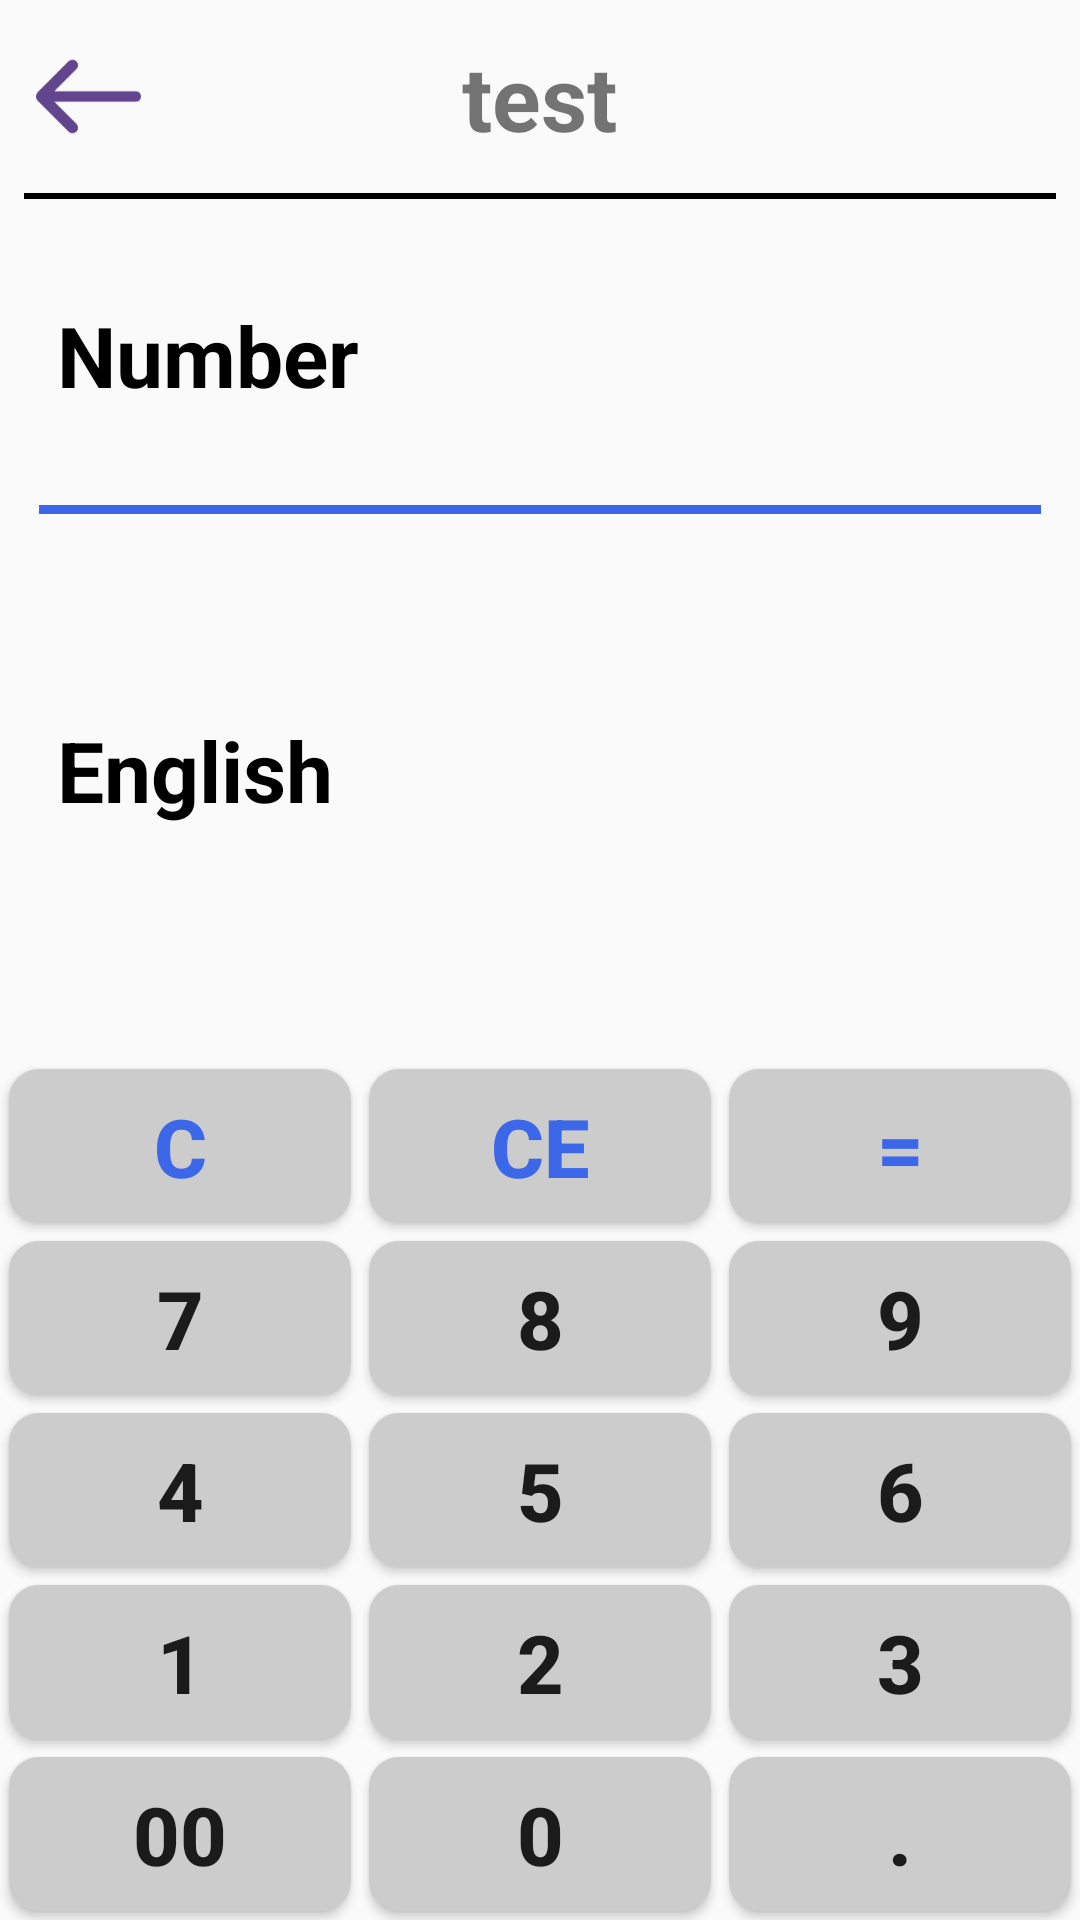

Icons on this 1080 × 1920 Android screen, each with the point to tap as [x,y]:
back: [88,96]
